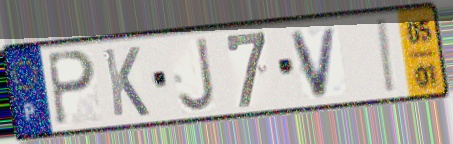7: (223, 29, 268, 109)
I: (376, 16, 400, 97)
J: (175, 34, 218, 115)
K: (100, 44, 152, 120)
P: (44, 48, 99, 129)
V: (288, 24, 341, 101)
